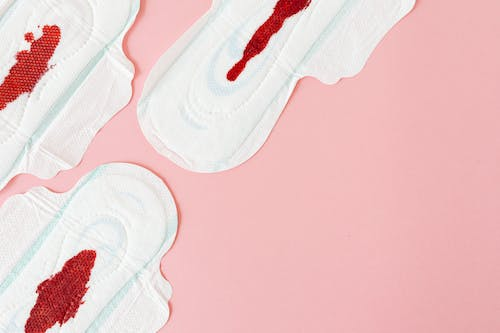blood: (224, 0, 317, 83), (22, 246, 98, 333), (0, 20, 64, 112)
